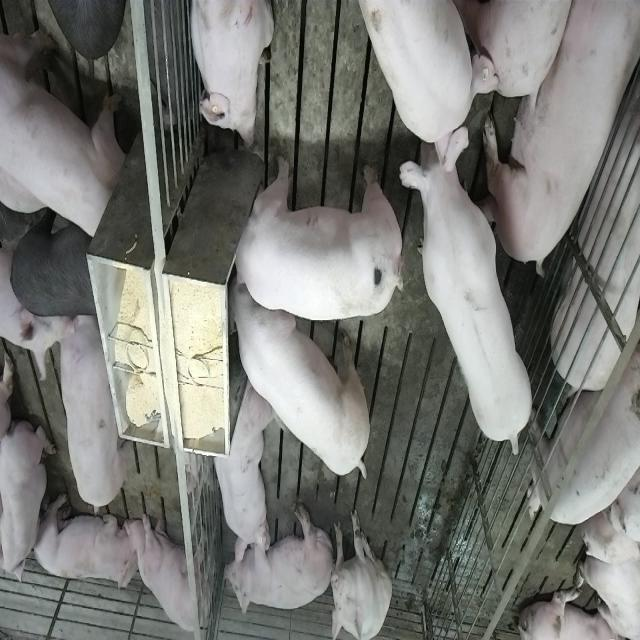Feeding: (228, 276, 376, 480), (232, 156, 408, 324)
Lateral_lying: (480, 0, 636, 274), (224, 502, 336, 619)
Sitting: (328, 506, 392, 638)
Standing: (398, 117, 532, 455), (551, 31, 640, 393), (1, 15, 124, 245), (529, 332, 640, 528), (356, 0, 502, 147), (54, 310, 128, 522), (126, 502, 206, 636), (8, 213, 98, 319)
Sternal_lying: (187, 0, 274, 152), (209, 380, 272, 566), (33, 496, 135, 594), (2, 416, 54, 591)
